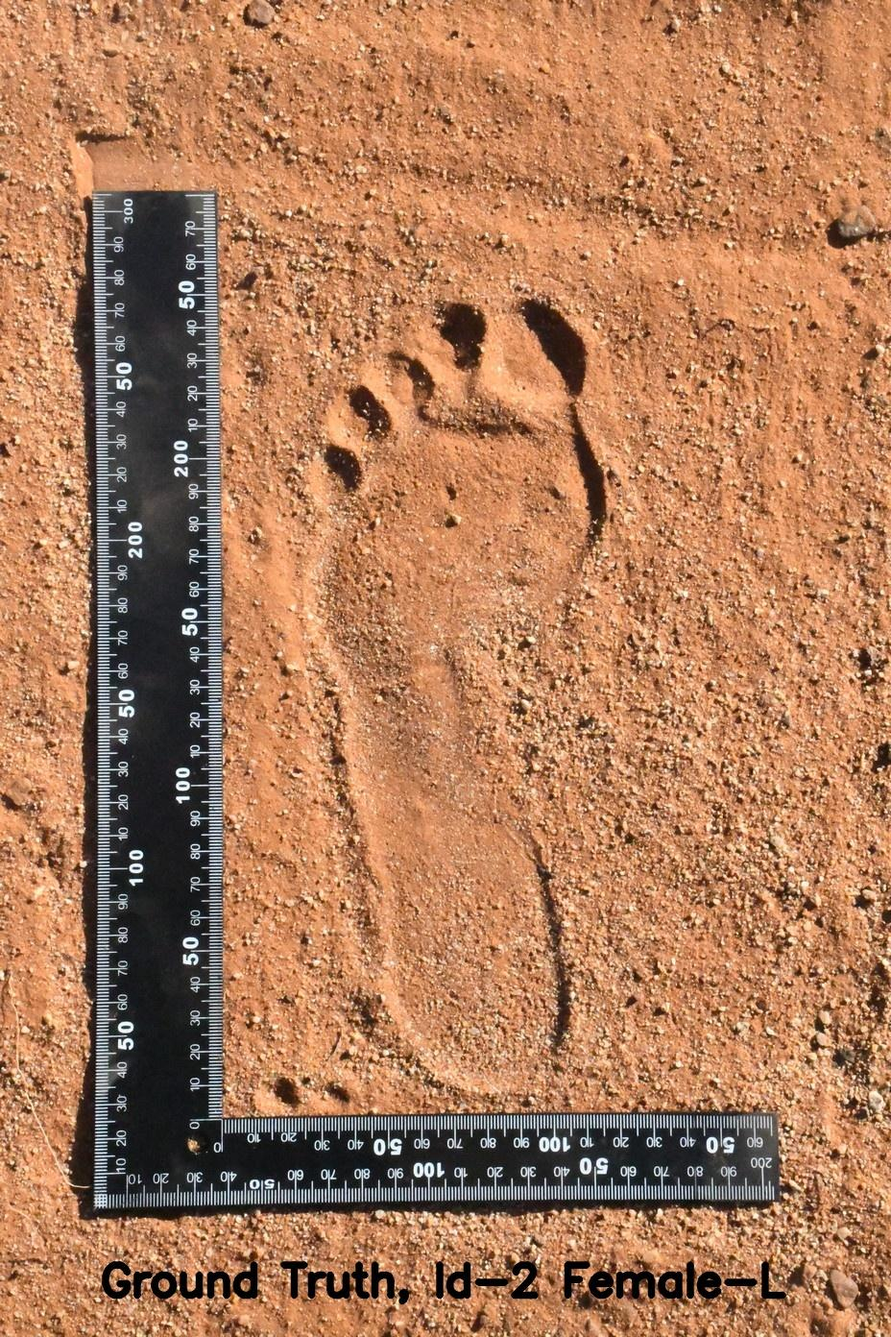human_footprint: (282, 254, 631, 1107)
